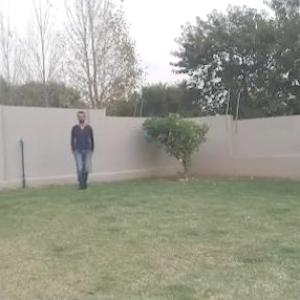follow: (74, 111, 94, 192)
